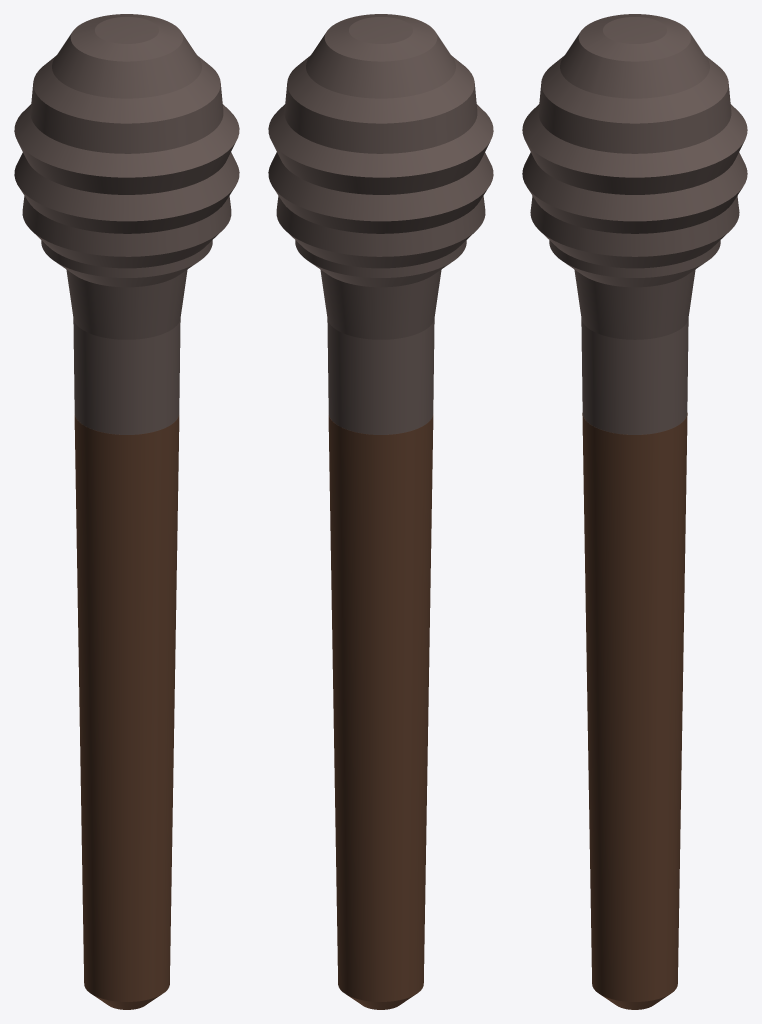
3 views of the same model, side by side, from view 1: azimuth 30°, elevation 25°; view 2: azimuth 150°, elevation 25°; view 3: azimuth 270°, elevation 25° (orthographic).
Parts seen in each view (by area): view 1: ribbed_head, wooden_shaft; view 2: ribbed_head, wooden_shaft; view 3: ribbed_head, wooden_shaft.
Part boxes in pixels (x1,y1,x2,y2): ribbed_head: [14, 14, 239, 434]; wooden_shaft: [74, 414, 179, 1009]; ribbed_head: [268, 14, 493, 434]; wooden_shaft: [328, 414, 433, 1009]; ribbed_head: [522, 14, 747, 434]; wooden_shaft: [582, 413, 687, 1009].
Size of the model in its own units: 0.084 by 0.4 by 0.084.
